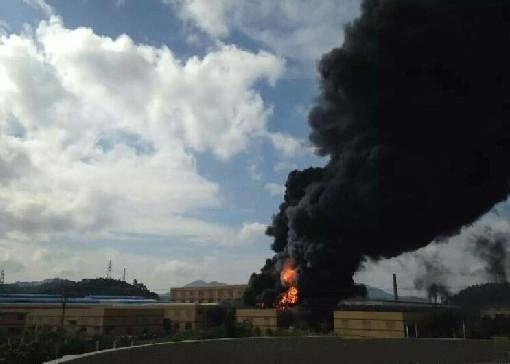fire: (279, 265, 299, 304)
